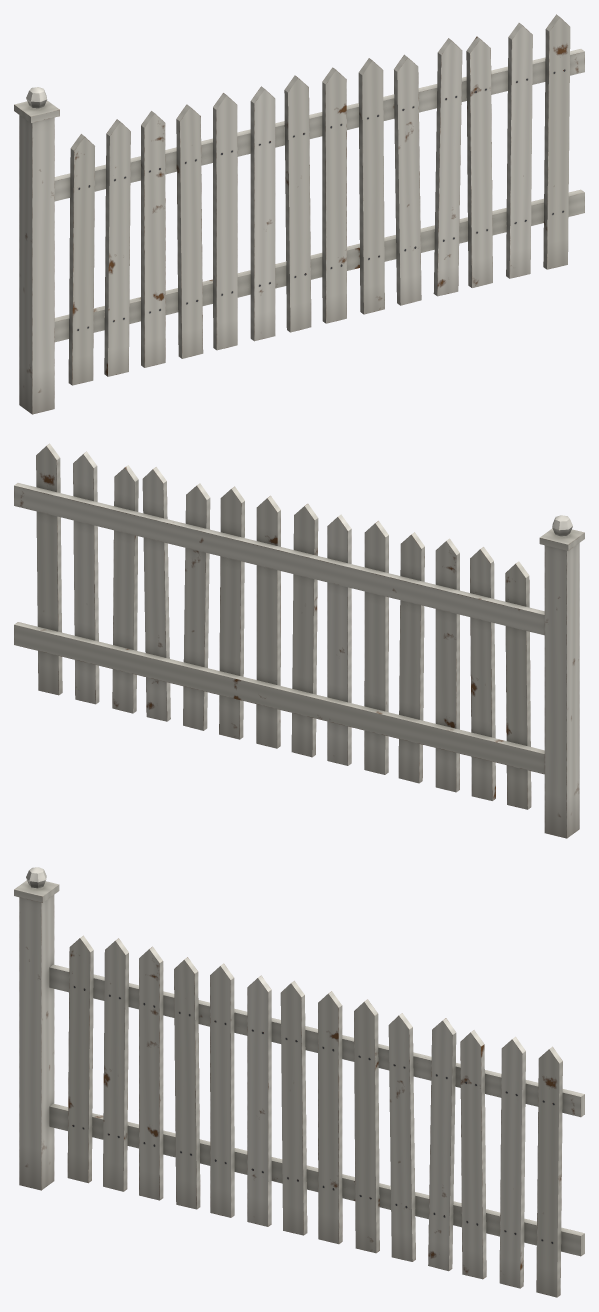
File: Fence_Picket_2m_01.fbx
3 views of the same model, one above another, from view 1: azimuth 30°, elevation 25°; view 2: azimuth 150°, elevation 25°; view 3: azimuth 330°, elevation 25° (orthographic).
Parts seen in each view (by area): view 1: Fence_Picket_2m_01; view 2: Fence_Picket_2m_01; view 3: Fence_Picket_2m_01.
Part boxes in pixels (<box>): Fence_Picket_2m_01: <box>14,14,584,414</box>; Fence_Picket_2m_01: <box>14,443,584,838</box>; Fence_Picket_2m_01: <box>14,867,584,1297</box>.
Size of the model in its own units: 2.01 by 1.09 by 0.104.
Materials: 1 (1 with a texture image).
